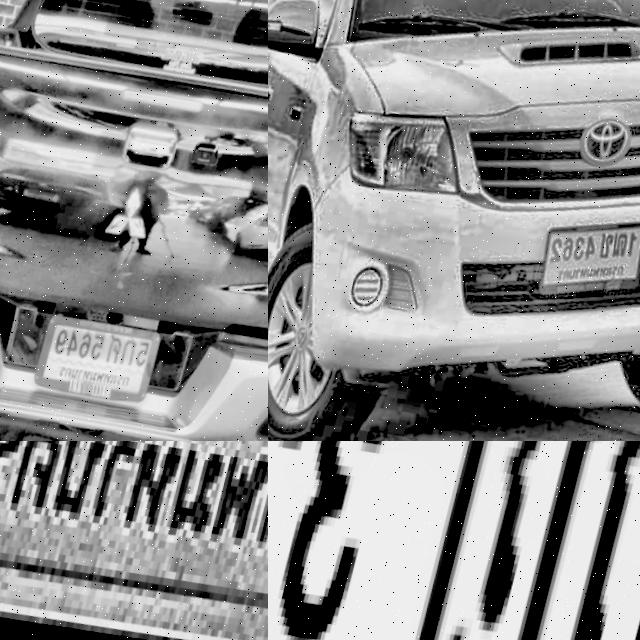license-plate: (268, 441, 640, 640), (0, 441, 268, 640), (529, 203, 640, 324), (34, 311, 166, 412)
